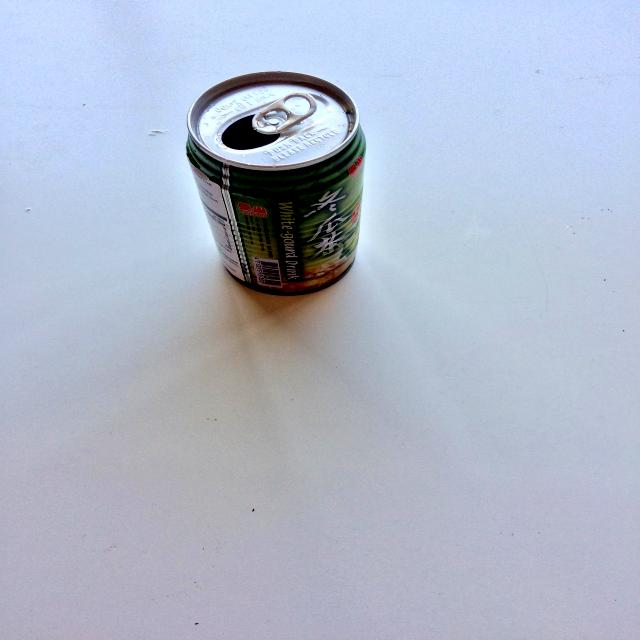Metal: (179, 67, 369, 299)
